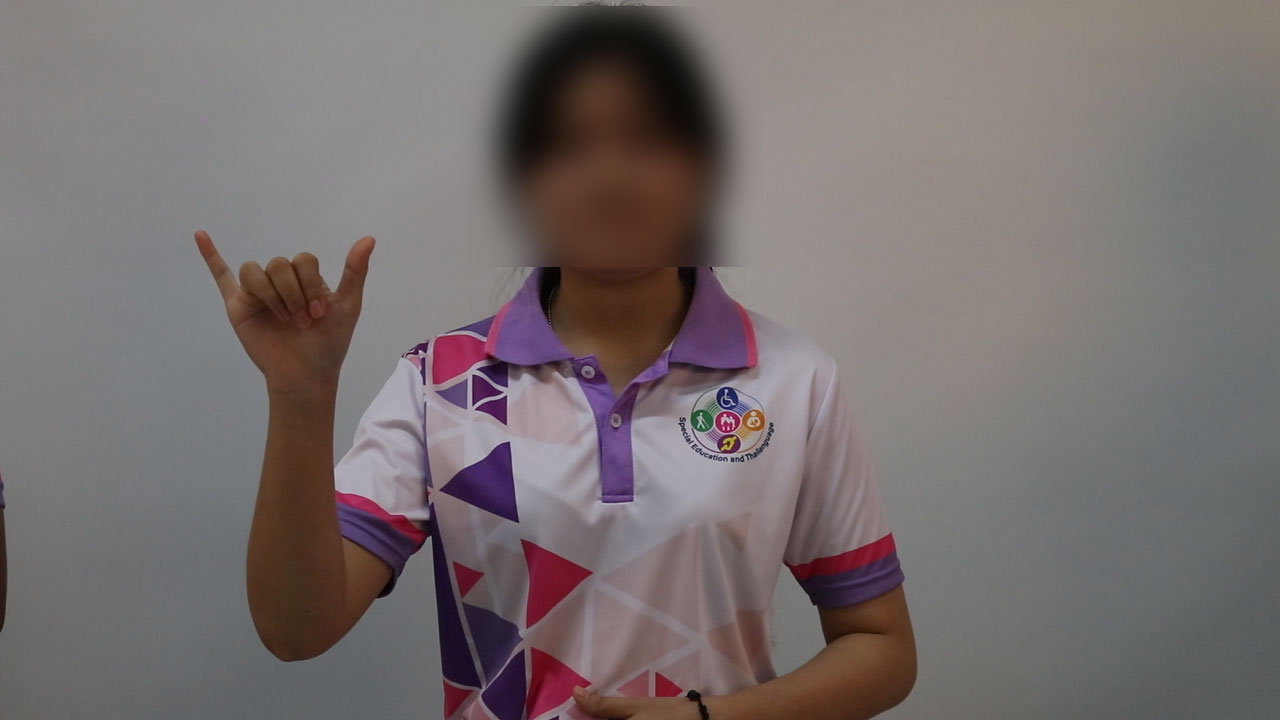yor: (168, 215, 391, 413)
